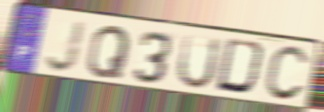3: (132, 30, 174, 86)
C: (262, 45, 311, 104)
D: (213, 36, 270, 99)
J: (43, 19, 88, 74)
Q: (84, 23, 132, 80)
U: (174, 32, 224, 91)
